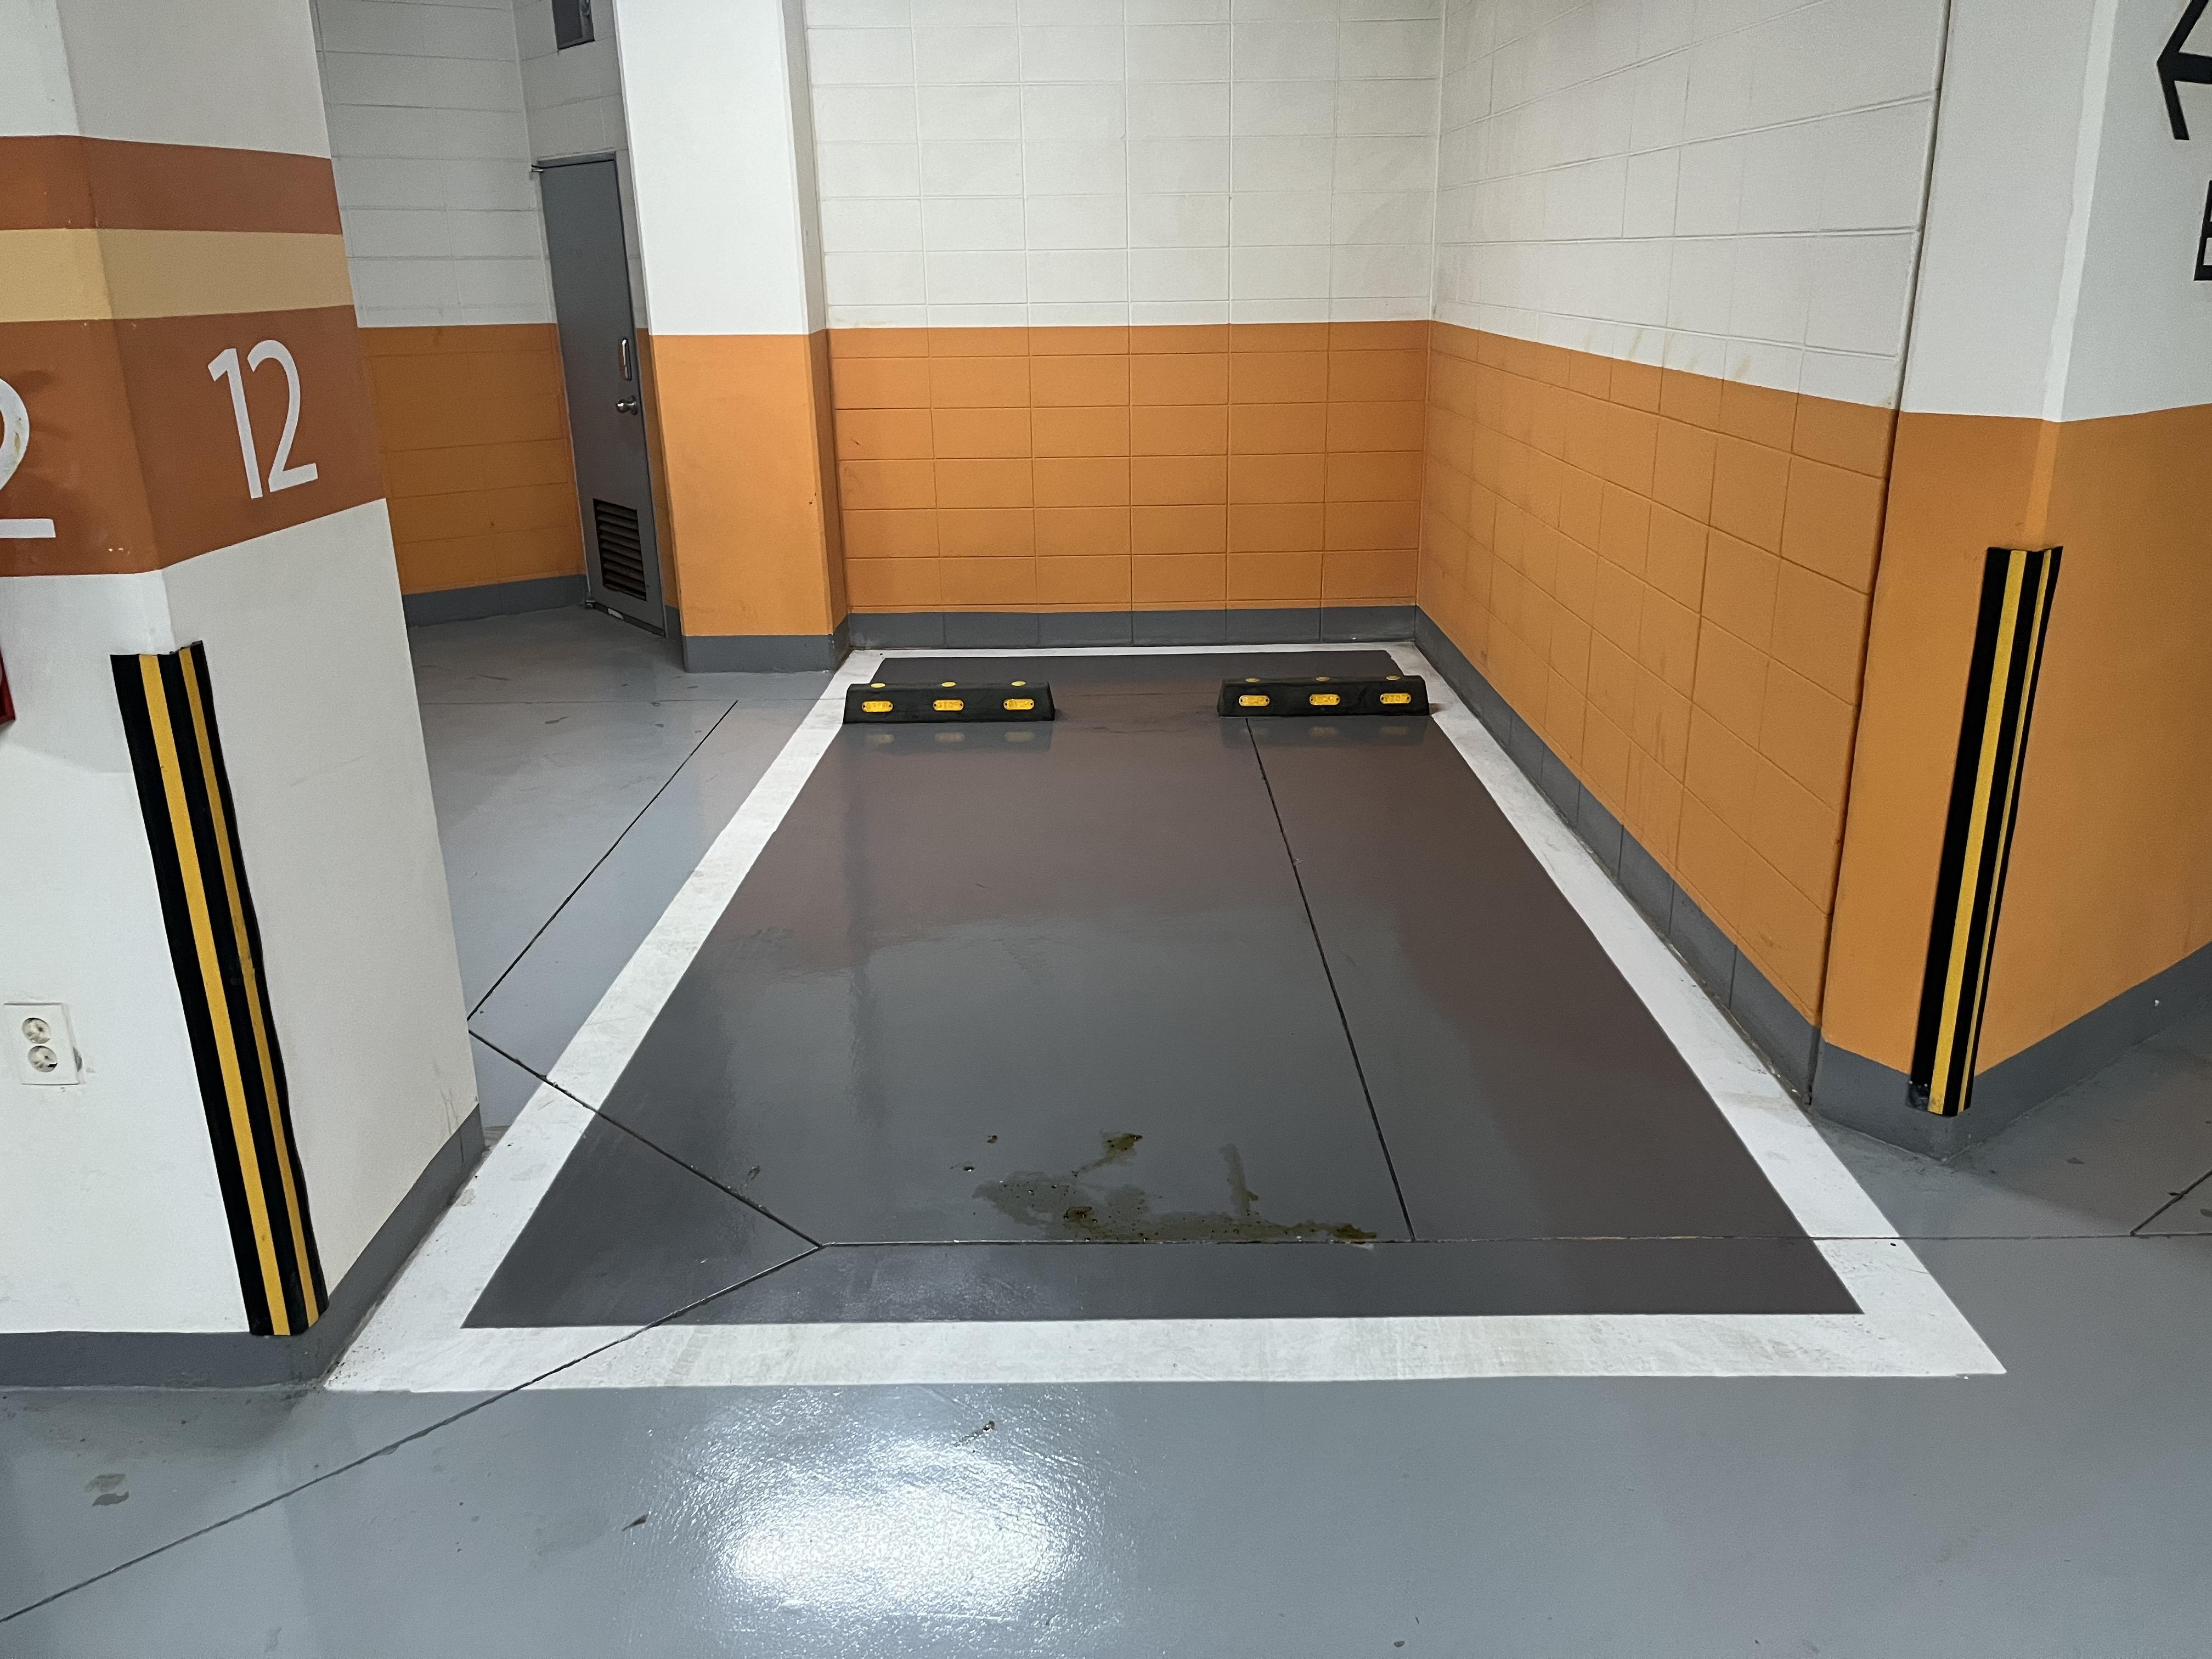empty: (269, 620, 2066, 1407)
